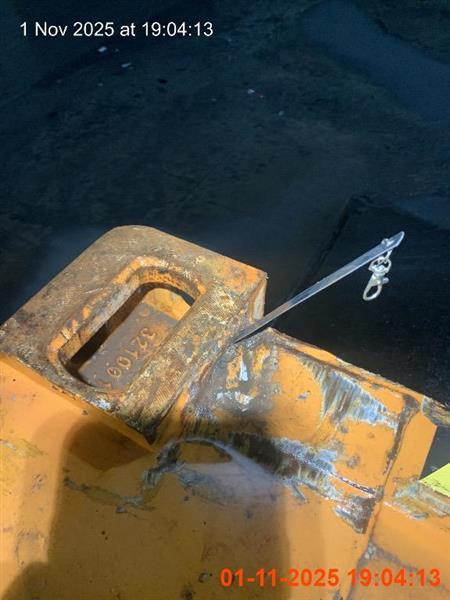hole: (233, 231, 404, 344)
